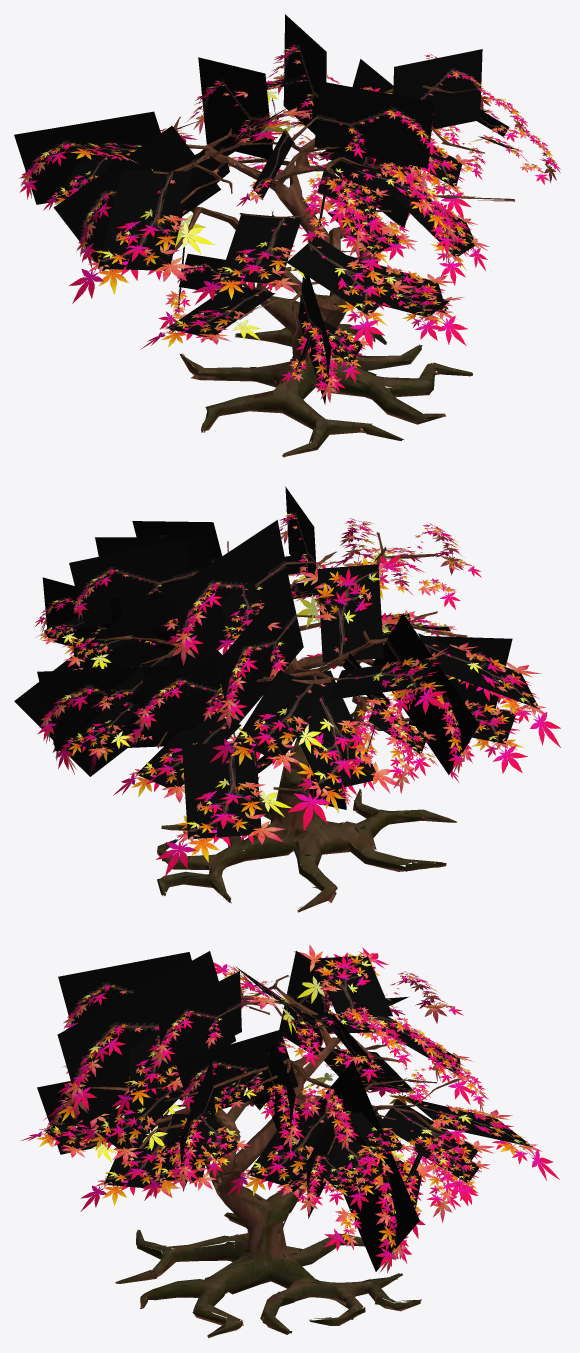
File: tree-maple.glb
3 renders of one model, top to bottom at view 1: azimuth 30°, elevation 25°; view 2: azimuth 150°, elevation 25°; view 3: azimuth 270°, elevation 25°, orthographic. The views are drawn at different scales.
Parts seen in each view (by area): view 1: tree-maple; view 2: tree-maple; view 3: tree-maple.
Boxes of the visible parts, x1,y1,x2,y2 form: tree-maple: (14,14,560,457); tree-maple: (14,486,560,912); tree-maple: (21,945,559,1338).
Size of the model in its own units: 10.16 by 6.5 by 10.16.
3 materials, 3 textured.
